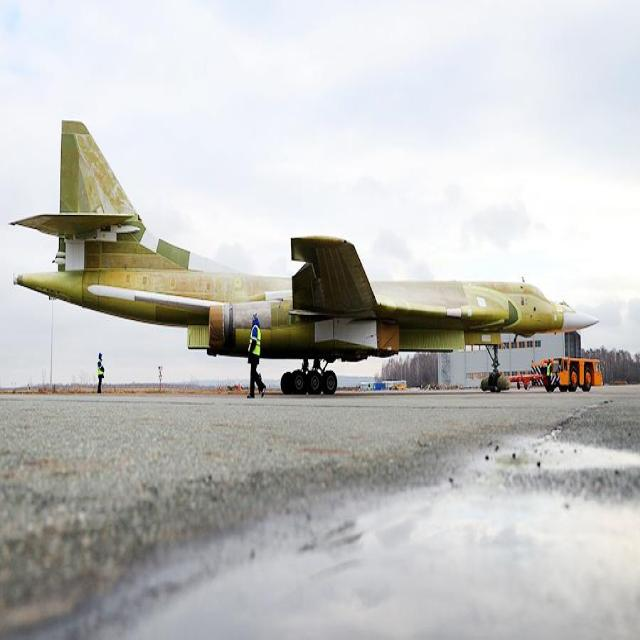MIL_Plane: (7, 123, 600, 392)
